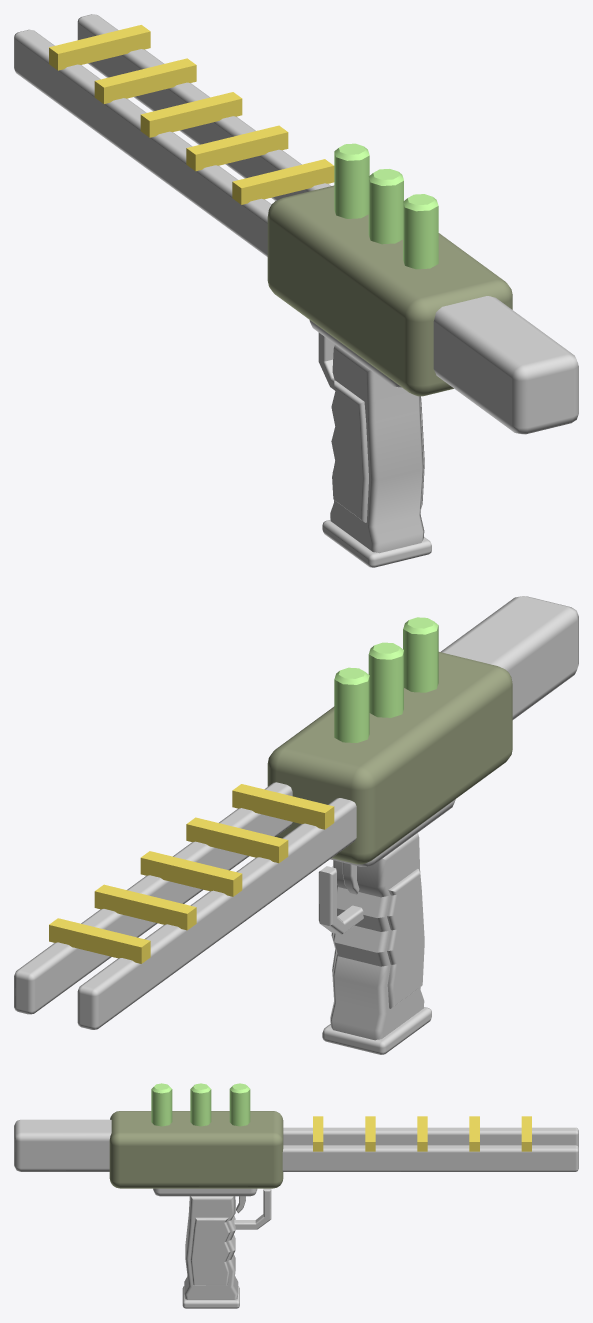
The model's file is RailDriver.glb.
3 views of the same model, one above another, from view 1: azimuth 30°, elevation 25°; view 2: azimuth 150°, elevation 25°; view 3: azimuth 270°, elevation 25° (orthographic). The views are drawn at different scales.
Parts seen in each view (by area): view 1: Base, Primary, AccentTrim, AccentGlow; view 2: Base, Primary, AccentTrim, AccentGlow; view 3: Base, Primary, AccentGlow, AccentTrim.
Boxes of the visible parts, bbox=[...] form: Base: bbox=[14, 14, 578, 567]; Primary: bbox=[267, 185, 512, 396]; AccentTrim: bbox=[49, 25, 334, 204]; AccentGlow: bbox=[334, 143, 438, 269]; Base: bbox=[14, 596, 578, 1054]; Primary: bbox=[267, 652, 512, 864]; AccentTrim: bbox=[49, 784, 334, 963]; AccentGlow: bbox=[334, 617, 438, 742]; Base: bbox=[14, 1119, 578, 1308]; Primary: bbox=[109, 1111, 283, 1188]; AccentGlow: bbox=[151, 1083, 250, 1126]; AccentTrim: bbox=[313, 1116, 531, 1151].
Bounding box in the file's own units: 0.8 × 2.72 × 6.5.
